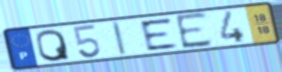4: (219, 9, 247, 44)
5: (71, 23, 102, 59)
E: (173, 10, 215, 51), (138, 16, 181, 52)
I: (110, 20, 129, 57)
Q: (35, 28, 72, 63)
